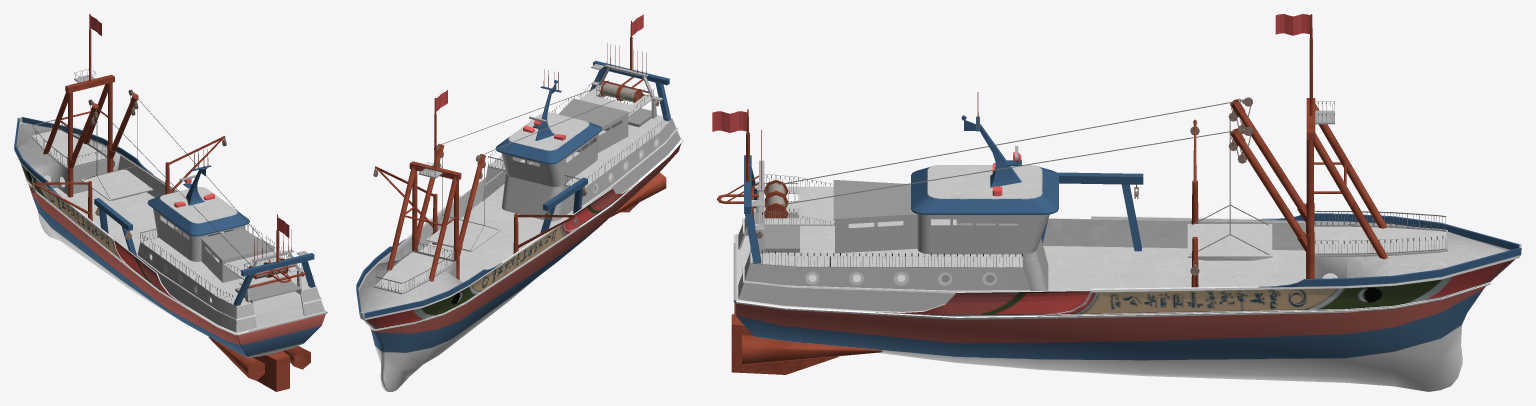
File: New_Ship_NFT.fbx
3 views of the same model, side by side, from view 1: azimuth 30°, elevation 25°; view 2: azimuth 150°, elevation 25°; view 3: azimuth 270°, elevation 25° (orthographic). The views are drawn at different scales.
Parts seen in each view (by area): view 1: SHIP_5; view 2: SHIP_5; view 3: SHIP_5.
Boxes of the visible parts, x1=… form: SHIP_5: x1=14, y1=14, x2=327, y2=391; SHIP_5: x1=356, y1=14, x2=683, y2=391; SHIP_5: x1=712, y1=14, x2=1521, y2=391.
Size of the model in its own units: 1929 by 2386 by 4653.
Materials: 1 (1 with a texture image).
